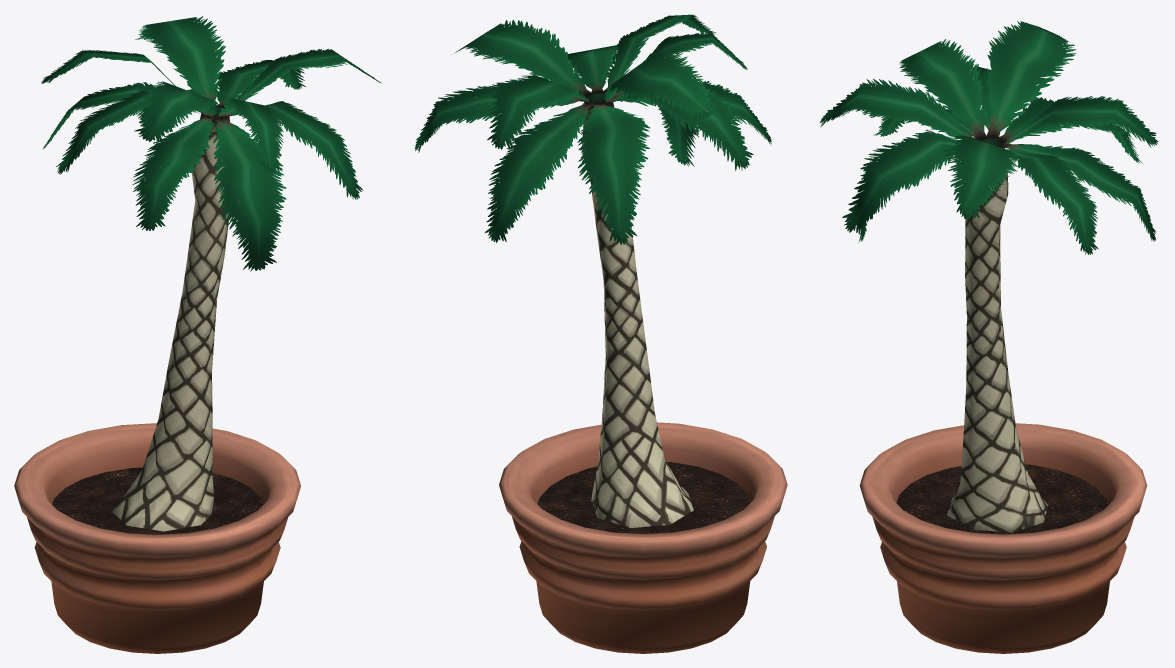
Rendered from thumbnail.glb.
3 renders of one model, left to right at view 1: azimuth 30°, elevation 25°; view 2: azimuth 150°, elevation 25°; view 3: azimuth 270°, elevation 25°, orthographic.
Visible parts, largest first — view 1: potted_palm_tree, potted_palm_pot, potted_palm_dirt; view 2: potted_palm_tree, potted_palm_pot, potted_palm_dirt; view 3: potted_palm_tree, potted_palm_pot, potted_palm_dirt.
Part boxes in pixels (x1=…): potted_palm_tree: x1=41, y1=16, x2=381, y2=531; potted_palm_pot: x1=14, y1=423, x2=300, y2=653; potted_palm_dirt: x1=52, y1=467, x2=263, y2=534; potted_palm_tree: x1=414, y1=14, x2=771, y2=527; potted_palm_pot: x1=499, y1=422, x2=787, y2=653; potted_palm_dirt: x1=537, y1=462, x2=750, y2=533; potted_palm_tree: x1=819, y1=21, x2=1158, y2=532; potted_palm_pot: x1=859, y1=423, x2=1147, y2=653; potted_palm_dirt: x1=896, y1=464, x2=1108, y2=534.
Size of the model in its own units: 2.2 by 3.65 by 1.97.
1 material, 1 textured.
